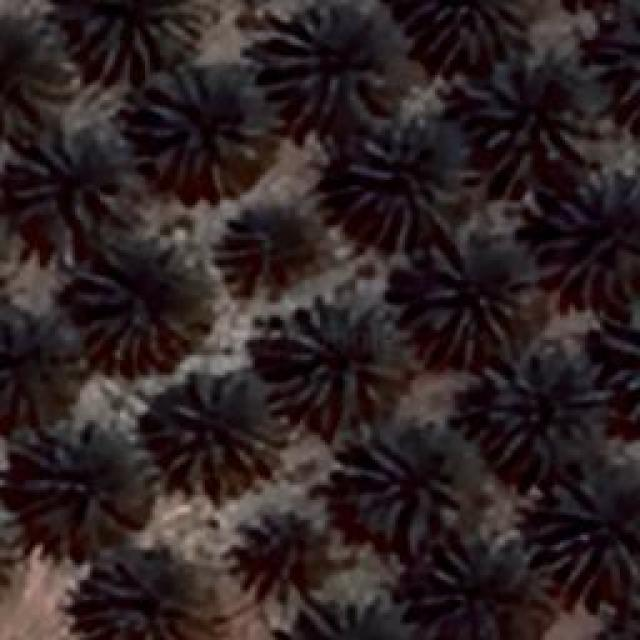PalmTree: (32, 63, 620, 126), (270, 292, 408, 426), (155, 372, 290, 498), (68, 250, 202, 372), (475, 340, 610, 460), (260, 10, 392, 130), (138, 62, 268, 182), (23, 432, 158, 546), (462, 45, 590, 160), (342, 120, 456, 245), (534, 165, 638, 298), (538, 465, 638, 590), (342, 425, 456, 533), (418, 550, 550, 640), (402, 250, 526, 342), (78, 552, 192, 638), (10, 130, 115, 220), (78, 0, 208, 70), (0, 321, 75, 424), (218, 205, 314, 280), (410, 0, 528, 60), (602, 292, 640, 426), (232, 512, 310, 576), (285, 597, 390, 640), (0, 486, 21, 612), (601, 588, 640, 640), (0, 482, 15, 610), (611, 586, 640, 640)
